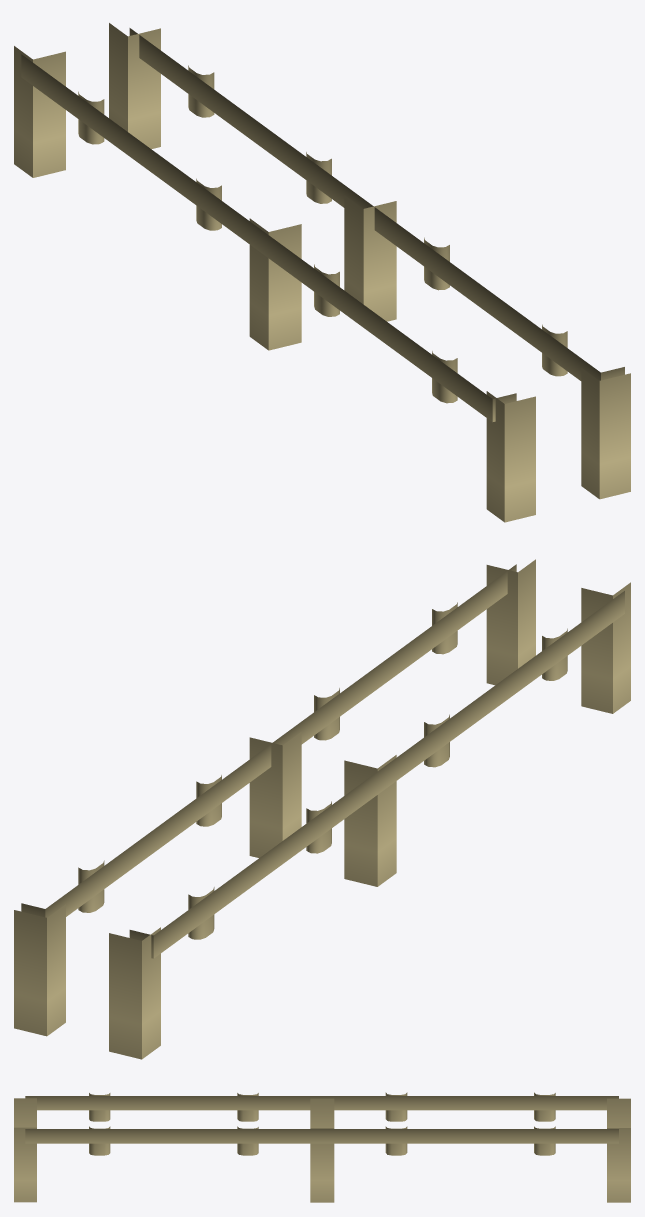
File: AMB_KAMIOOOKA.glb
The picture shows the model from 3 angles, top to bottom: view 1: azimuth 30°, elevation 25°; view 2: azimuth 150°, elevation 25°; view 3: azimuth 270°, elevation 25°; orthographic projection. The views are drawn at different scales.
Visible parts, largest first — view 1: BASE; view 2: BASE; view 3: BASE.
Part boxes in pixels (left/top/right/bottom): BASE: left=14, top=23, right=630, bottom=522; BASE: left=14, top=559, right=630, bottom=1059; BASE: left=14, top=1092, right=630, bottom=1202.
Size of the model in its own units: 16.21 by 13.88 by 104.
Materials: 2 (1 with a texture image).
